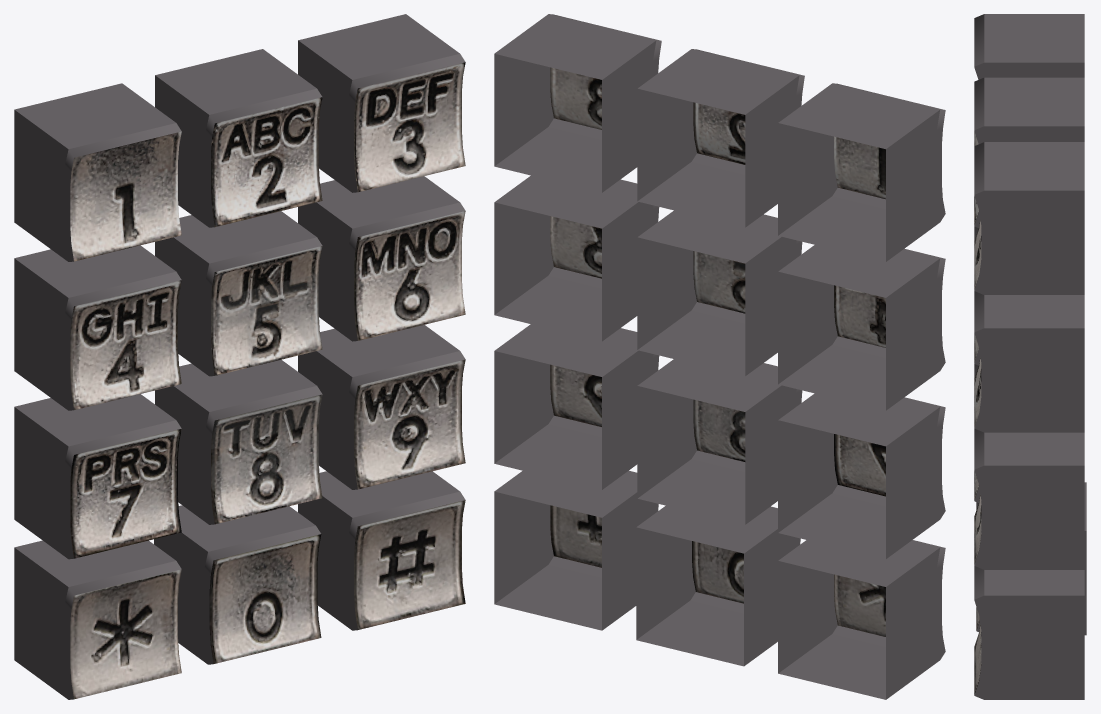
File: phone_booth_ButtonFix.fbx
3 views of the same model, side by side, from view 1: azimuth 30°, elevation 25°; view 2: azimuth 150°, elevation 25°; view 3: azimuth 270°, elevation 25° (orthographic). The views are drawn at different scales.
Visible parts, largest first — view 1: button1, button4, button7, button3, button2, button*, button6, button9, button5, button8, button#, button0; view 2: button1, button4, button7, button3, button2, button*, button6, button9, button5, button8, button#, button0; view 3: button3, button6, button9, button#, button2, button1, button0.
Boxes of the visible parts, x1,y1,x2,y2 form: button1: (14, 83, 181, 261); button4: (14, 245, 181, 410); button7: (14, 394, 181, 559); button3: (298, 14, 465, 192); button2: (155, 49, 322, 227); button*: (14, 540, 181, 699); button6: (298, 176, 465, 341); button9: (298, 325, 465, 489); button5: (155, 211, 322, 376); button8: (155, 359, 322, 524); button#: (298, 471, 465, 630); button0: (154, 505, 321, 664); button1: (778, 83, 945, 261); button4: (778, 245, 945, 410); button7: (778, 393, 945, 559); button3: (494, 14, 661, 192); button2: (637, 49, 804, 227); button*: (778, 540, 945, 699); button6: (494, 175, 659, 341); button9: (494, 324, 659, 489); button5: (637, 210, 802, 376); button8: (637, 359, 802, 524); button#: (494, 470, 658, 630); button0: (636, 505, 800, 666); button3: (974, 142, 1084, 294); button6: (974, 291, 1084, 432); button9: (974, 428, 1084, 569); button#: (974, 566, 1084, 699); button2: (974, 77, 1084, 228); button1: (974, 14, 1084, 145); button0: (976, 482, 1086, 635).
Size of the model in its own units: 18.83 by 25.3 by 5.07.
